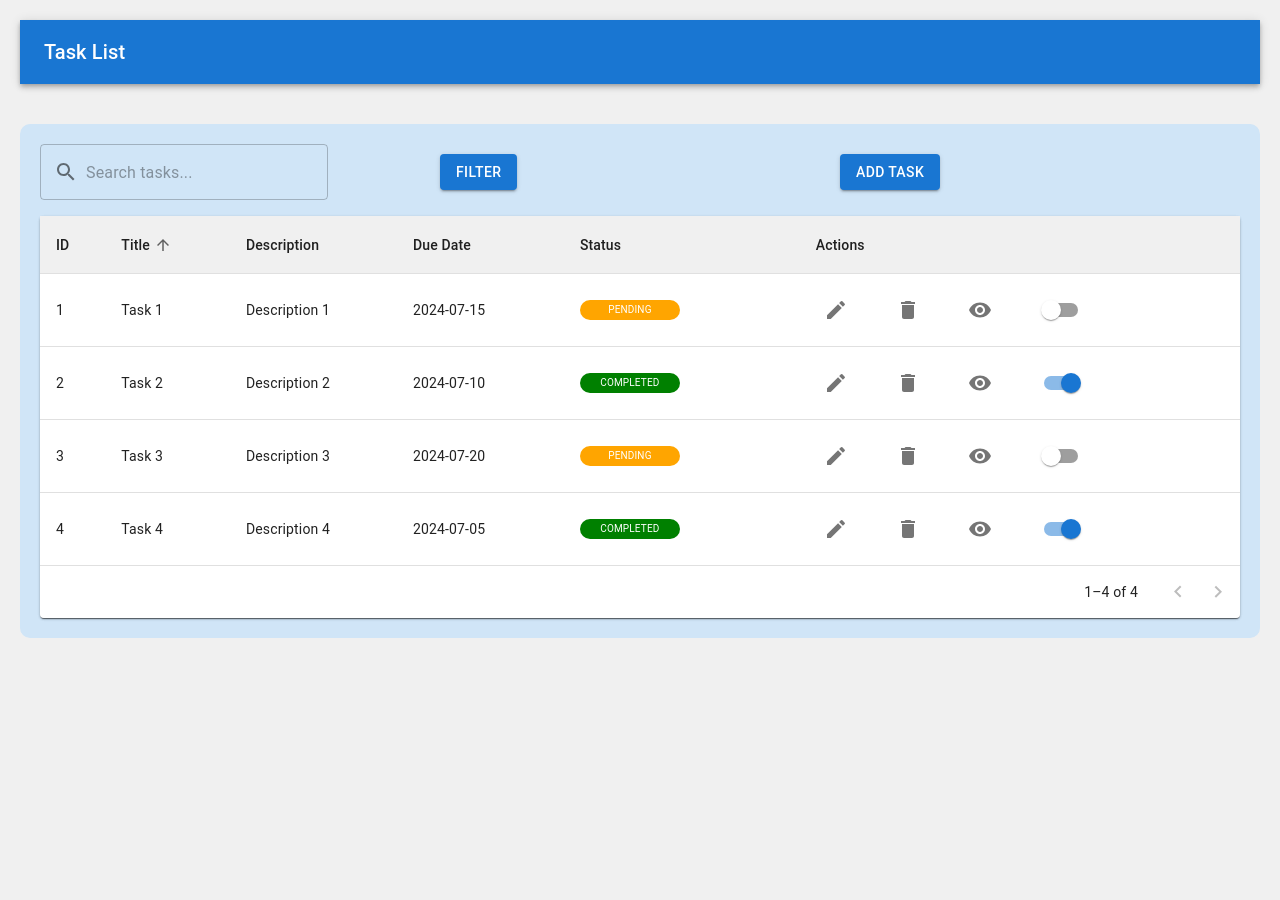
it: TaskListPage Component › navigates to AddTaskPage on add task button click
What coordinates should you click on to do the following:
click the button "Add Task"
I would click on:
 (890, 172)
Its box is [840,154,940,190].
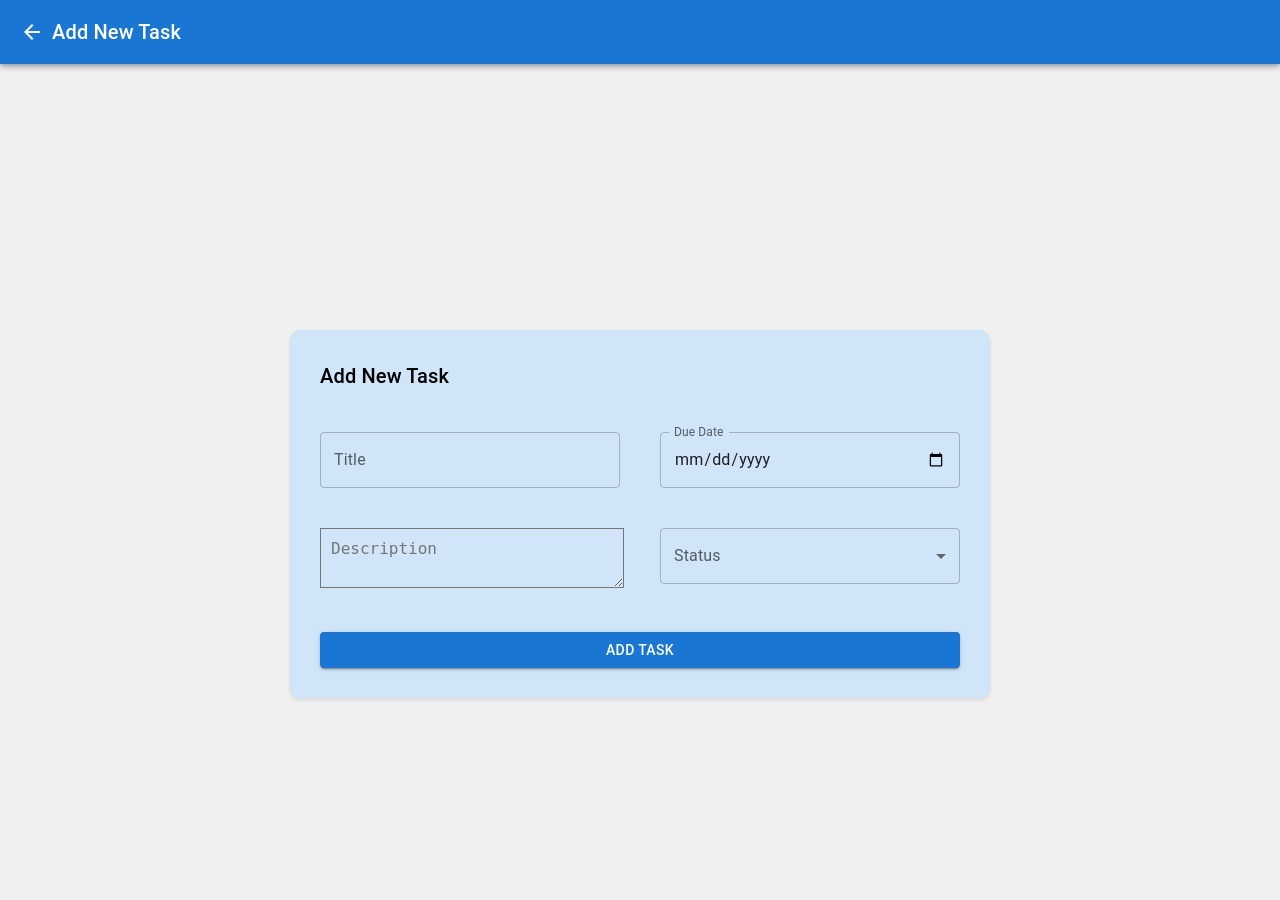
Expected: the text "Add New Task" is shown 2 times, [52,20,181,44]; [320,364,449,388]
What coordinates should you click on to do the following:
click the button named "back"
I would click on:
 (32, 32)
Its box is [12,12,52,52].
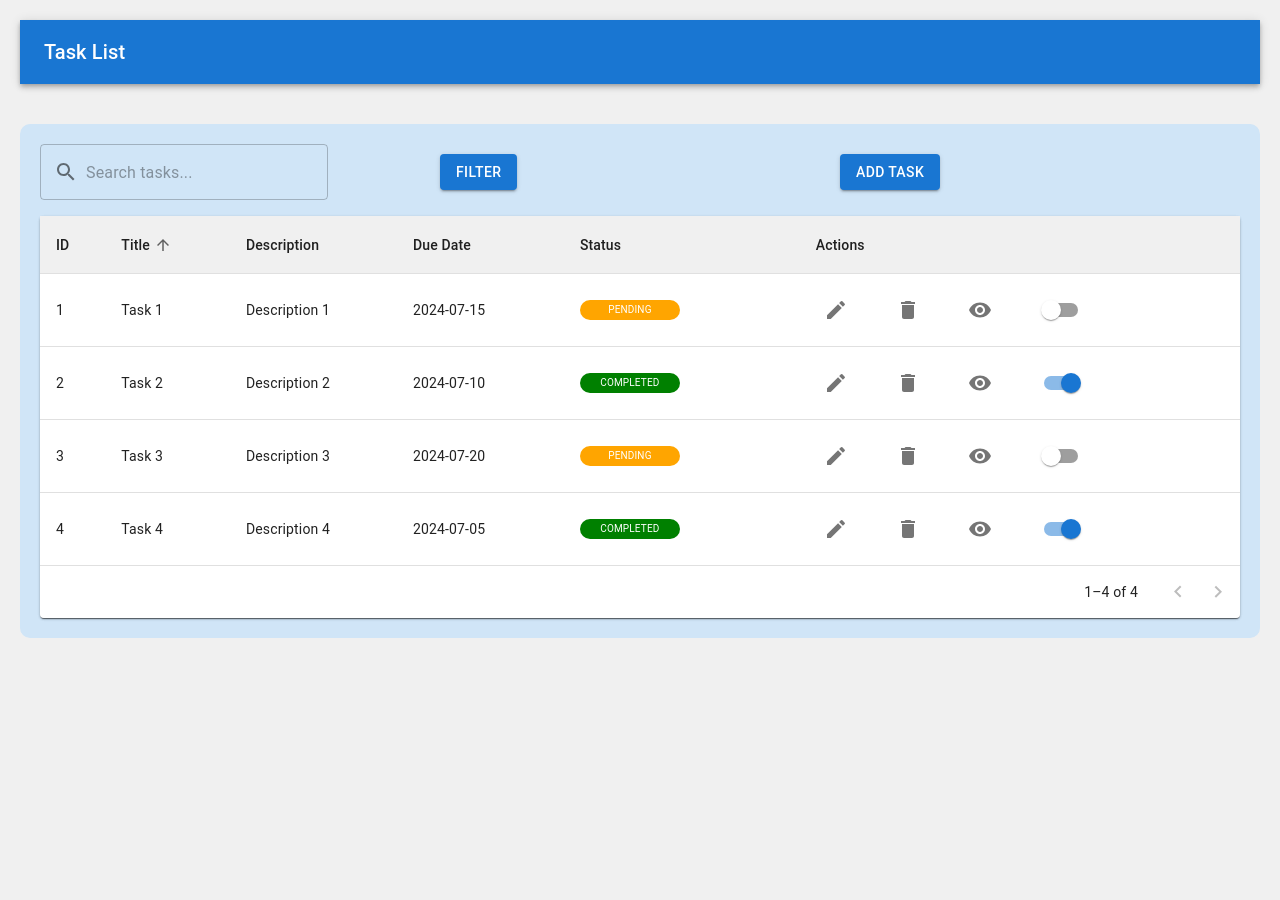
Now the text "Task List" is shown, box [44,40,125,64]
